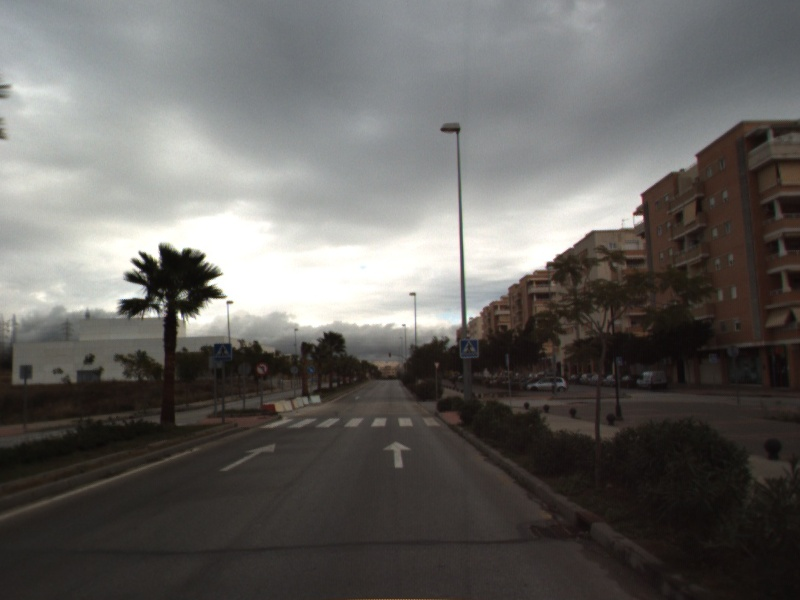STRAIGHT: (218, 441, 277, 473), (381, 439, 414, 470)
